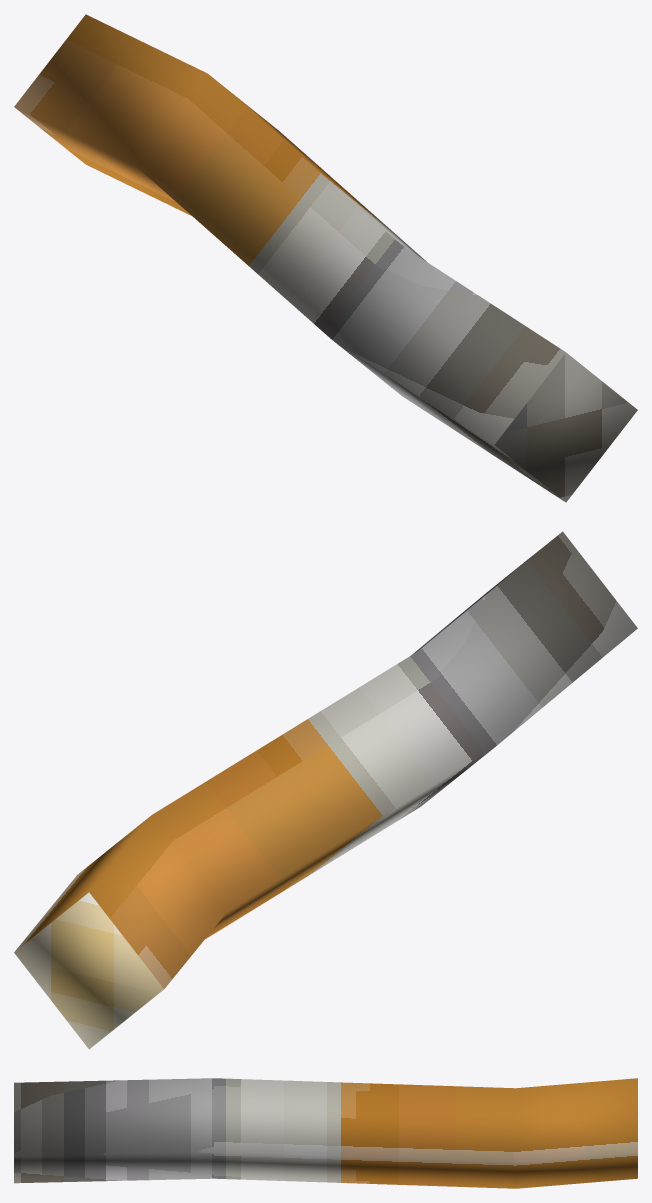
File: death_cube.glb
The picture shows the model from 3 angles, top to bottom: view 1: azimuth 30°, elevation 25°; view 2: azimuth 150°, elevation 25°; view 3: azimuth 270°, elevation 25°; orthographic projection. The views are drawn at different scales.
Visible parts, largest first — view 1: burnt; view 2: burnt; view 3: burnt.
Boxes of the visible parts, left/top/right/bottom form: burnt: left=14, top=14, right=637, bottom=502; burnt: left=14, top=531, right=637, bottom=1049; burnt: left=14, top=1078, right=637, bottom=1188.
Bounding box in the file's own units: 0.0511 × 0.0421 × 0.2366.
1 material, 1 textured.
